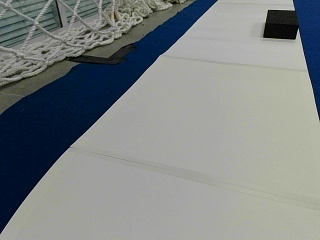block: (263, 10, 299, 40)
